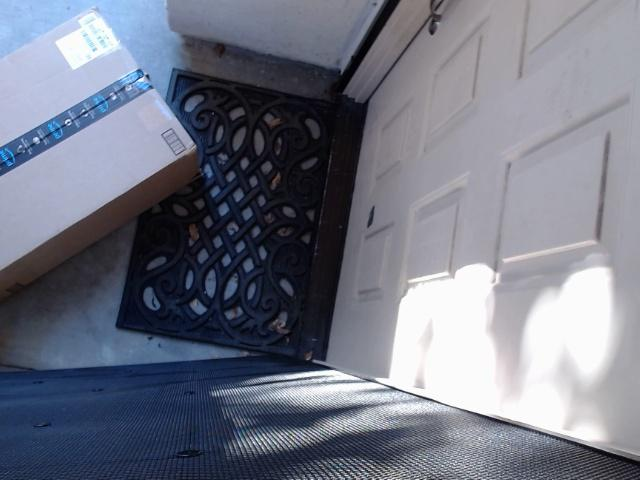box: (0, 0, 256, 287)
